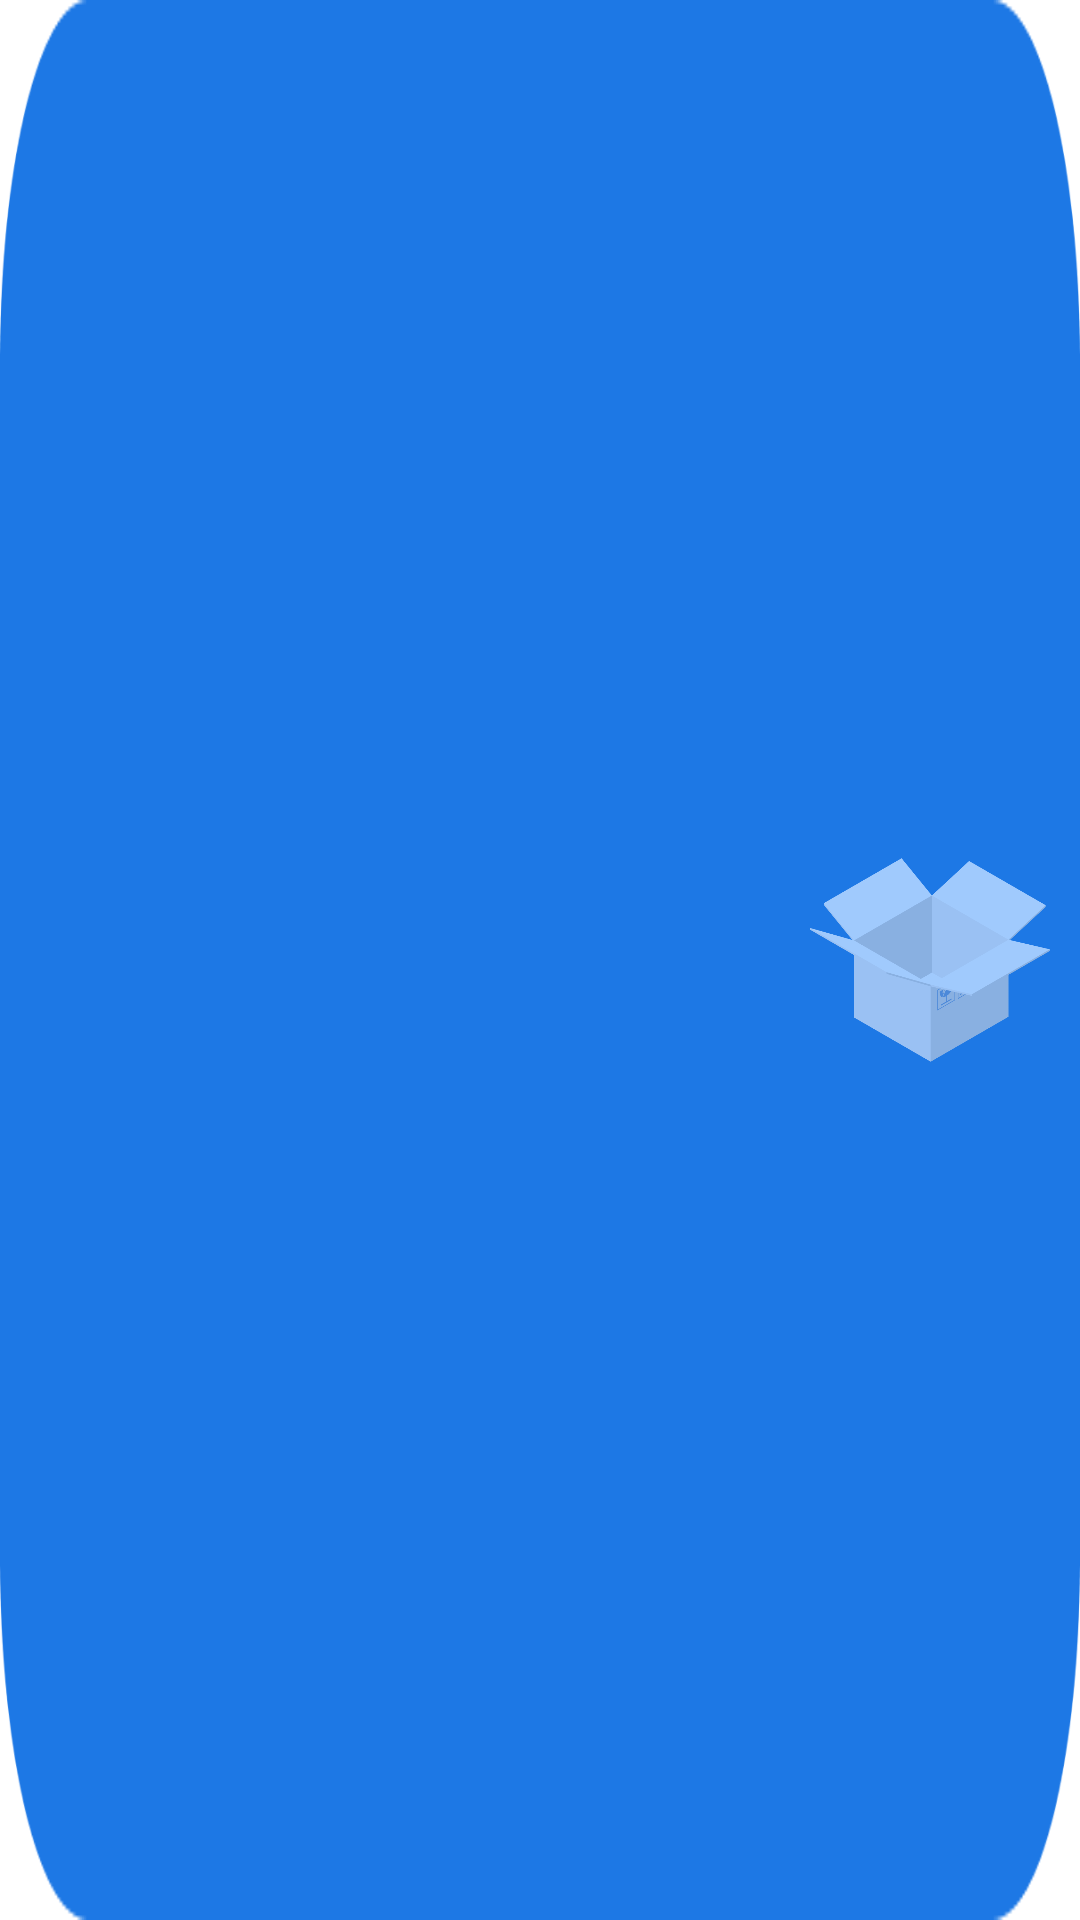

Locate icon controls on the screen. Image size 1080*1920, boxes as box(x1, y1, x2, y2).
box: box(810, 858, 1050, 1062)
